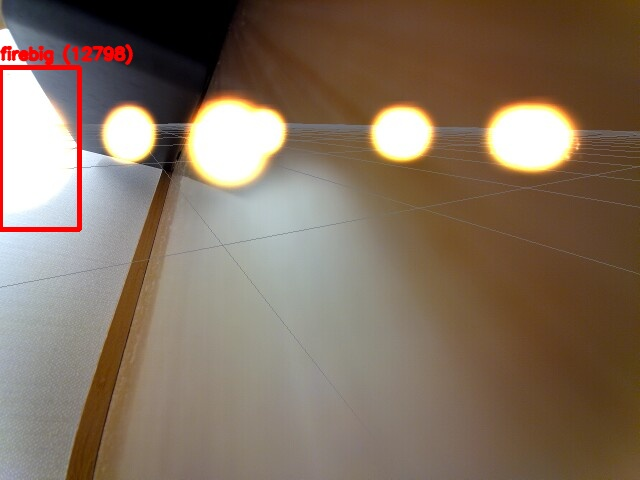firebig: (0, 67, 79, 229)
